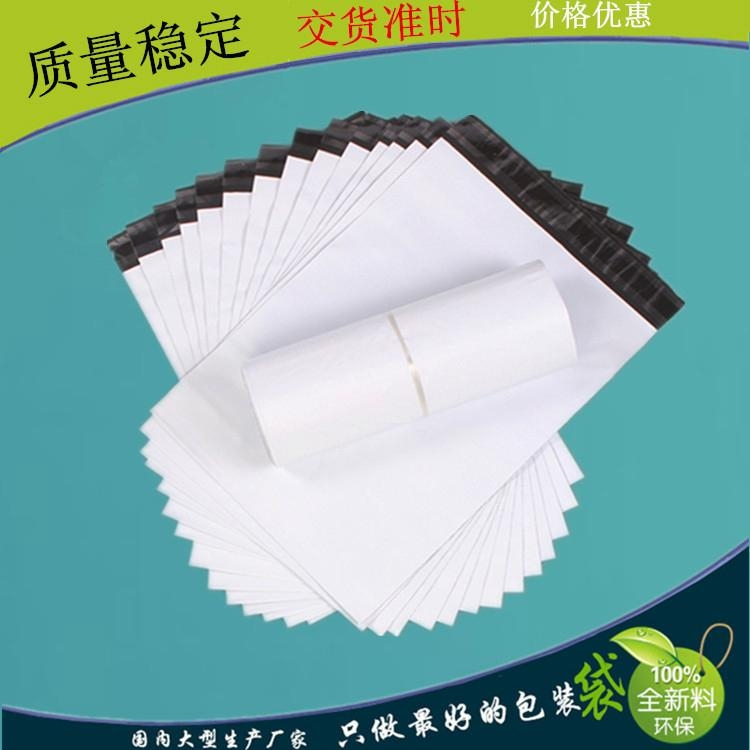Parcel: (112, 97, 682, 658)
